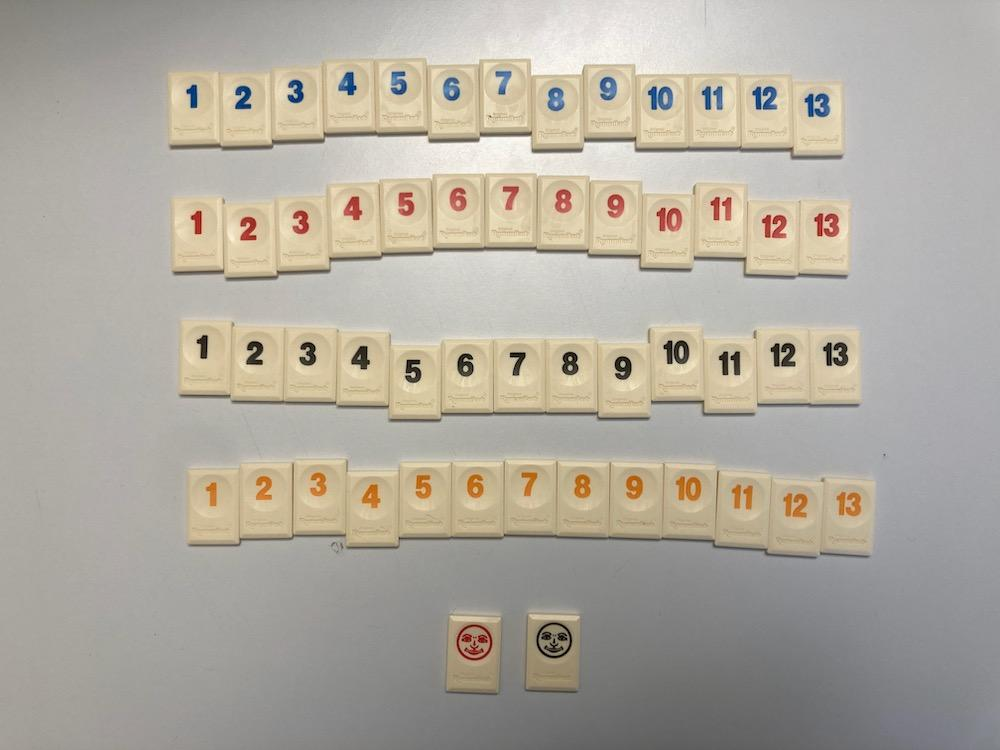black_1: (178, 323, 232, 395)
black_10: (652, 326, 702, 400)
black_11: (703, 340, 756, 412)
black_12: (757, 330, 809, 404)
black_13: (809, 330, 859, 404), (758, 330, 805, 402)
black_2: (230, 329, 285, 400)
black_3: (283, 329, 338, 402)
black_4: (336, 333, 389, 406)
black_5: (389, 347, 441, 420)
black_6: (443, 341, 492, 413)
black_7: (494, 340, 545, 412)
black_8: (545, 340, 597, 412)
black_9: (598, 344, 650, 418)
blue_1: (170, 72, 219, 146)
blue_10: (635, 77, 688, 148)
blue_11: (689, 74, 738, 148)
blue_12: (741, 76, 791, 148)
blue_13: (793, 82, 844, 156)
blue_2: (220, 74, 271, 146)
blue_3: (273, 68, 322, 141)
blue_4: (324, 61, 374, 133)
blue_5: (376, 60, 426, 133)
blue_6: (428, 66, 479, 141)
blue_7: (480, 60, 529, 133)
blue_8: (531, 76, 584, 150)
blue_9: (584, 64, 635, 139)
joker: (445, 615, 502, 693), (525, 616, 580, 691)
orange_1: (188, 469, 238, 545)
orange_10: (662, 463, 717, 539)
orange_11: (715, 471, 771, 549)
orange_12: (770, 479, 824, 555)
orange_13: (820, 477, 875, 557)
orange_2: (240, 463, 293, 538)
orange_3: (293, 460, 346, 535)
orange_4: (346, 472, 398, 547)
orange_5: (398, 464, 451, 537)
orange_6: (451, 464, 504, 537)
orange_7: (504, 459, 557, 535)
orange_8: (557, 461, 609, 537)
orange_9: (609, 464, 664, 539)
red_1: (172, 197, 223, 271)
red_10: (641, 196, 693, 270)
red_11: (695, 185, 746, 258)
red_12: (746, 201, 799, 275)
red_13: (799, 202, 852, 275)
red_2: (225, 202, 277, 277)
red_3: (277, 198, 329, 271)
red_4: (330, 184, 380, 257)
red_5: (381, 180, 432, 252)
red_6: (432, 174, 484, 248)
red_7: (484, 174, 537, 248)
red_8: (537, 177, 588, 250)
red_9: (588, 183, 641, 256)
